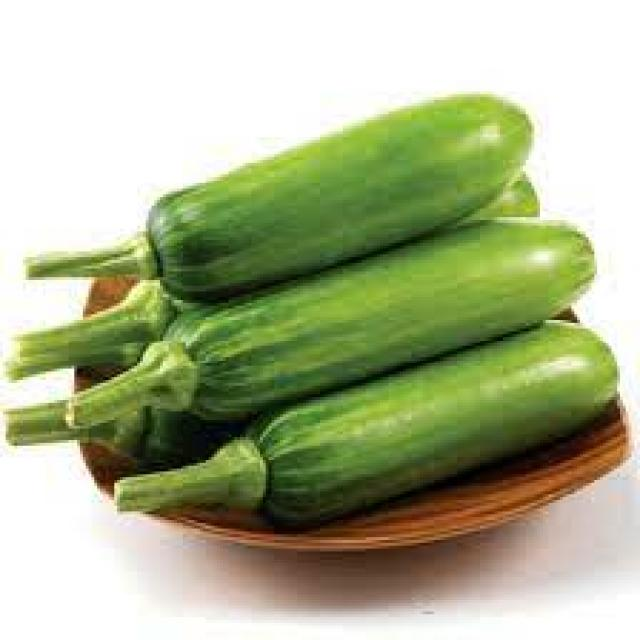zucchini: (68, 223, 594, 429), (114, 323, 620, 529), (26, 94, 531, 300)
